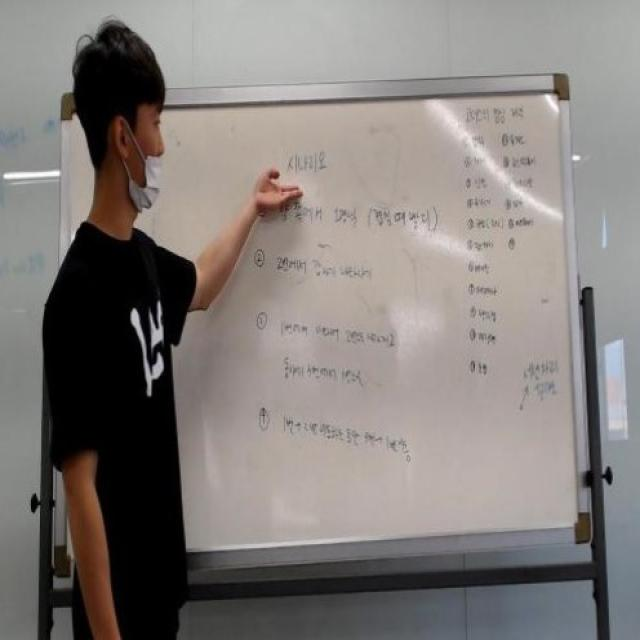Instructor: (28, 12, 186, 586)
White-board: (60, 82, 587, 568)
